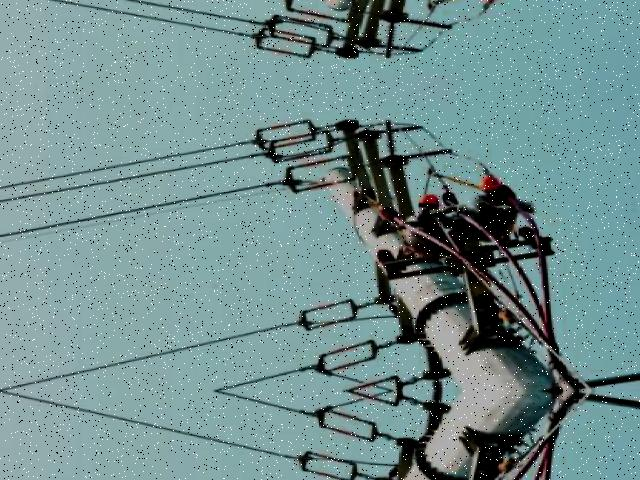Helmet: (479, 174, 509, 192), (416, 192, 444, 210)
